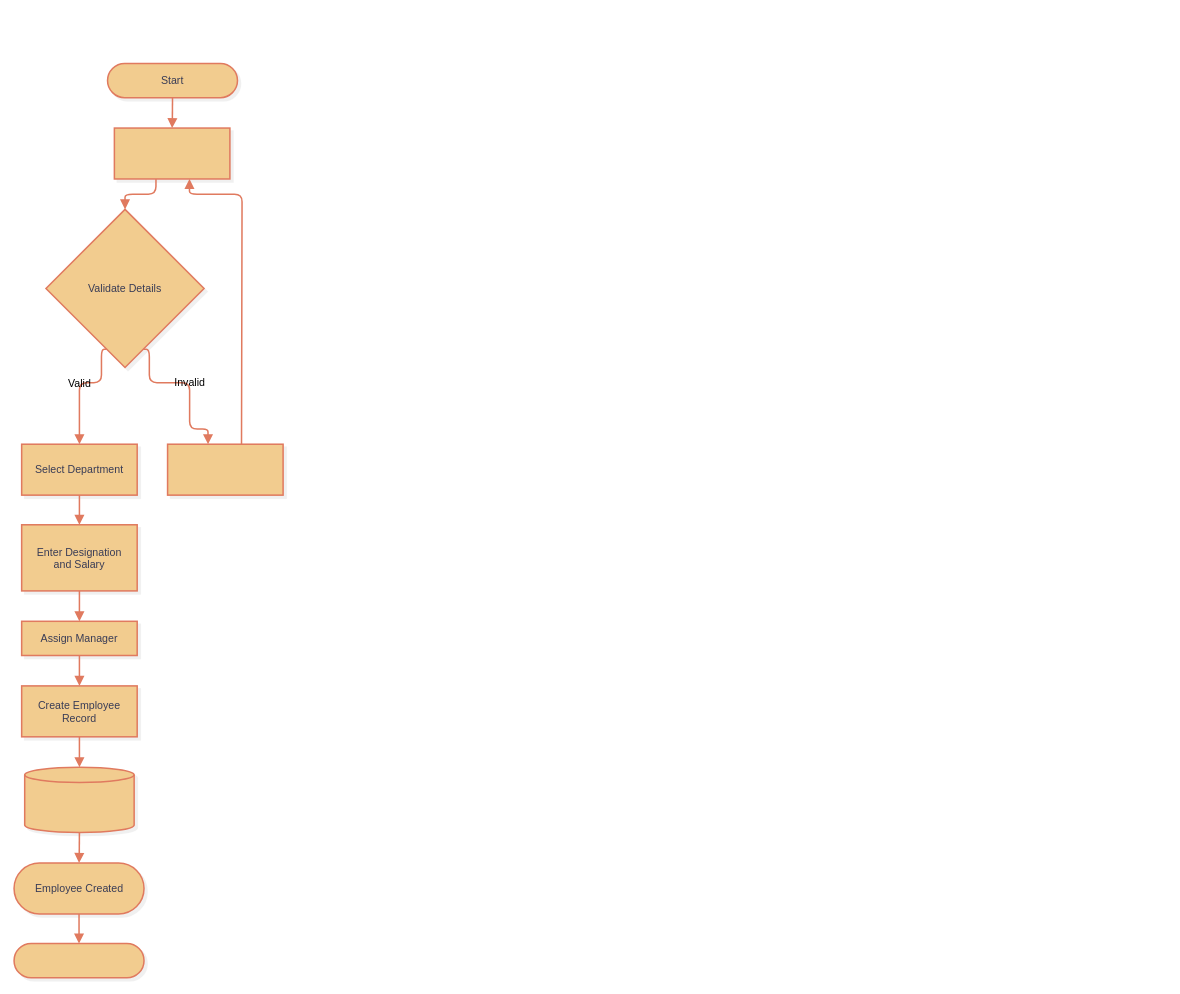
Image size: 1180x994. Some labels were removed from this diagram. Here are the shapes that lost their labels. From the top down, the centre of each, then its label:
At (x=173, y=154): "Enter Employee Details".
At (x=226, y=471): "Show Validation Error".
At (x=81, y=801): "EMP Table".
At (x=80, y=961): "End".
